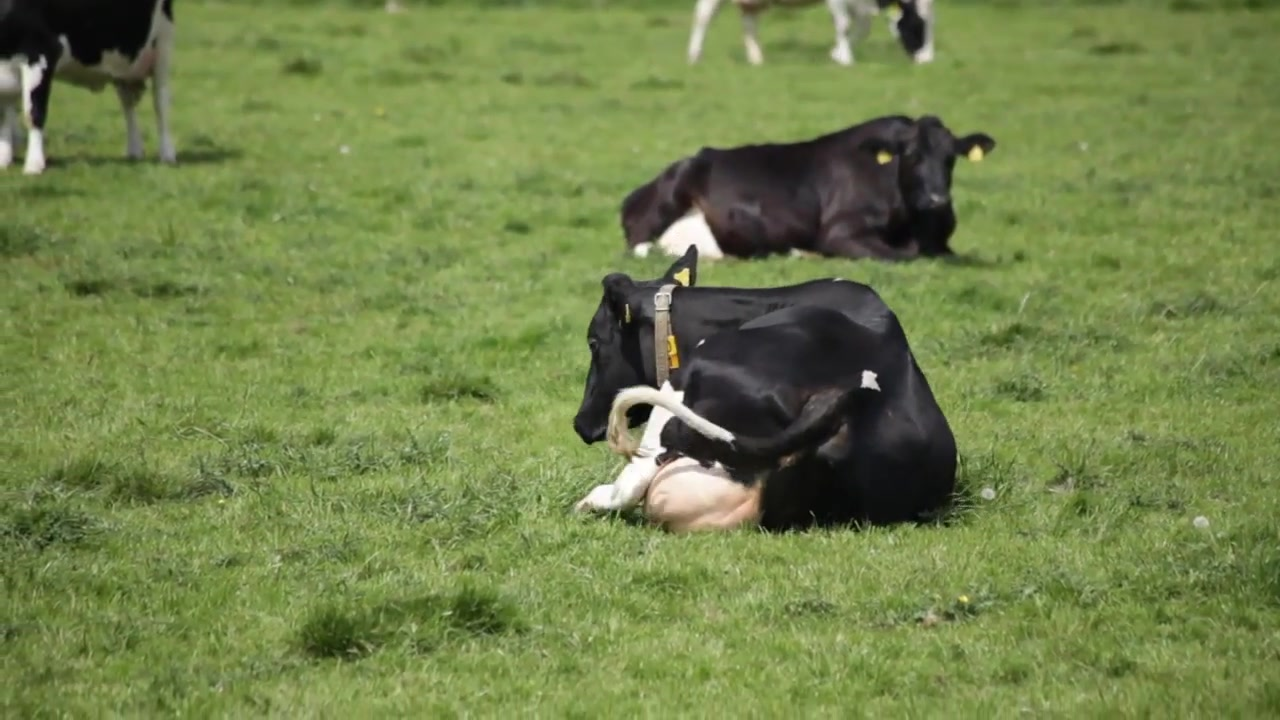cow: (574, 245, 961, 543)
